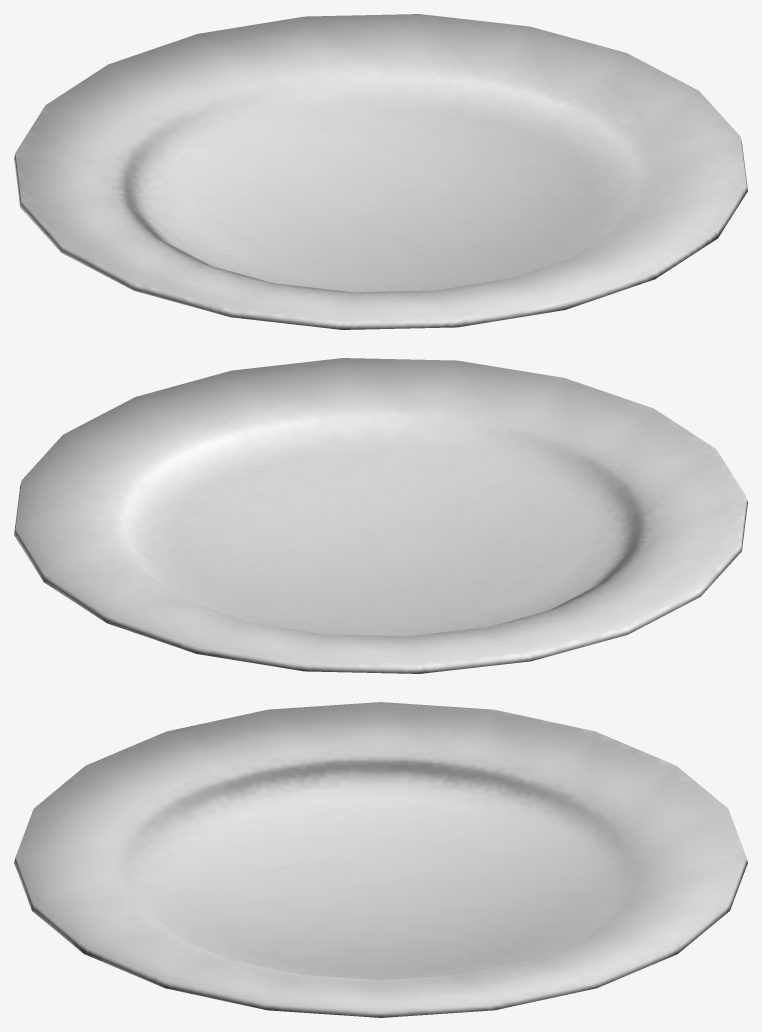
The model's file is plate.dae.
3 renders of one model, top to bottom at view 1: azimuth 30°, elevation 25°; view 2: azimuth 150°, elevation 25°; view 3: azimuth 270°, elevation 25°, orthographic.
Visible parts, largest first — view 1: plate; view 2: plate; view 3: plate.
Boxes of the visible parts, x1=… form: plate: x1=14, y1=14, x2=747, y2=329; plate: x1=14, y1=358, x2=747, y2=673; plate: x1=14, y1=702, x2=747, y2=1017.
Size of the model in its own units: 59.61 by 5.06 by 59.61.
